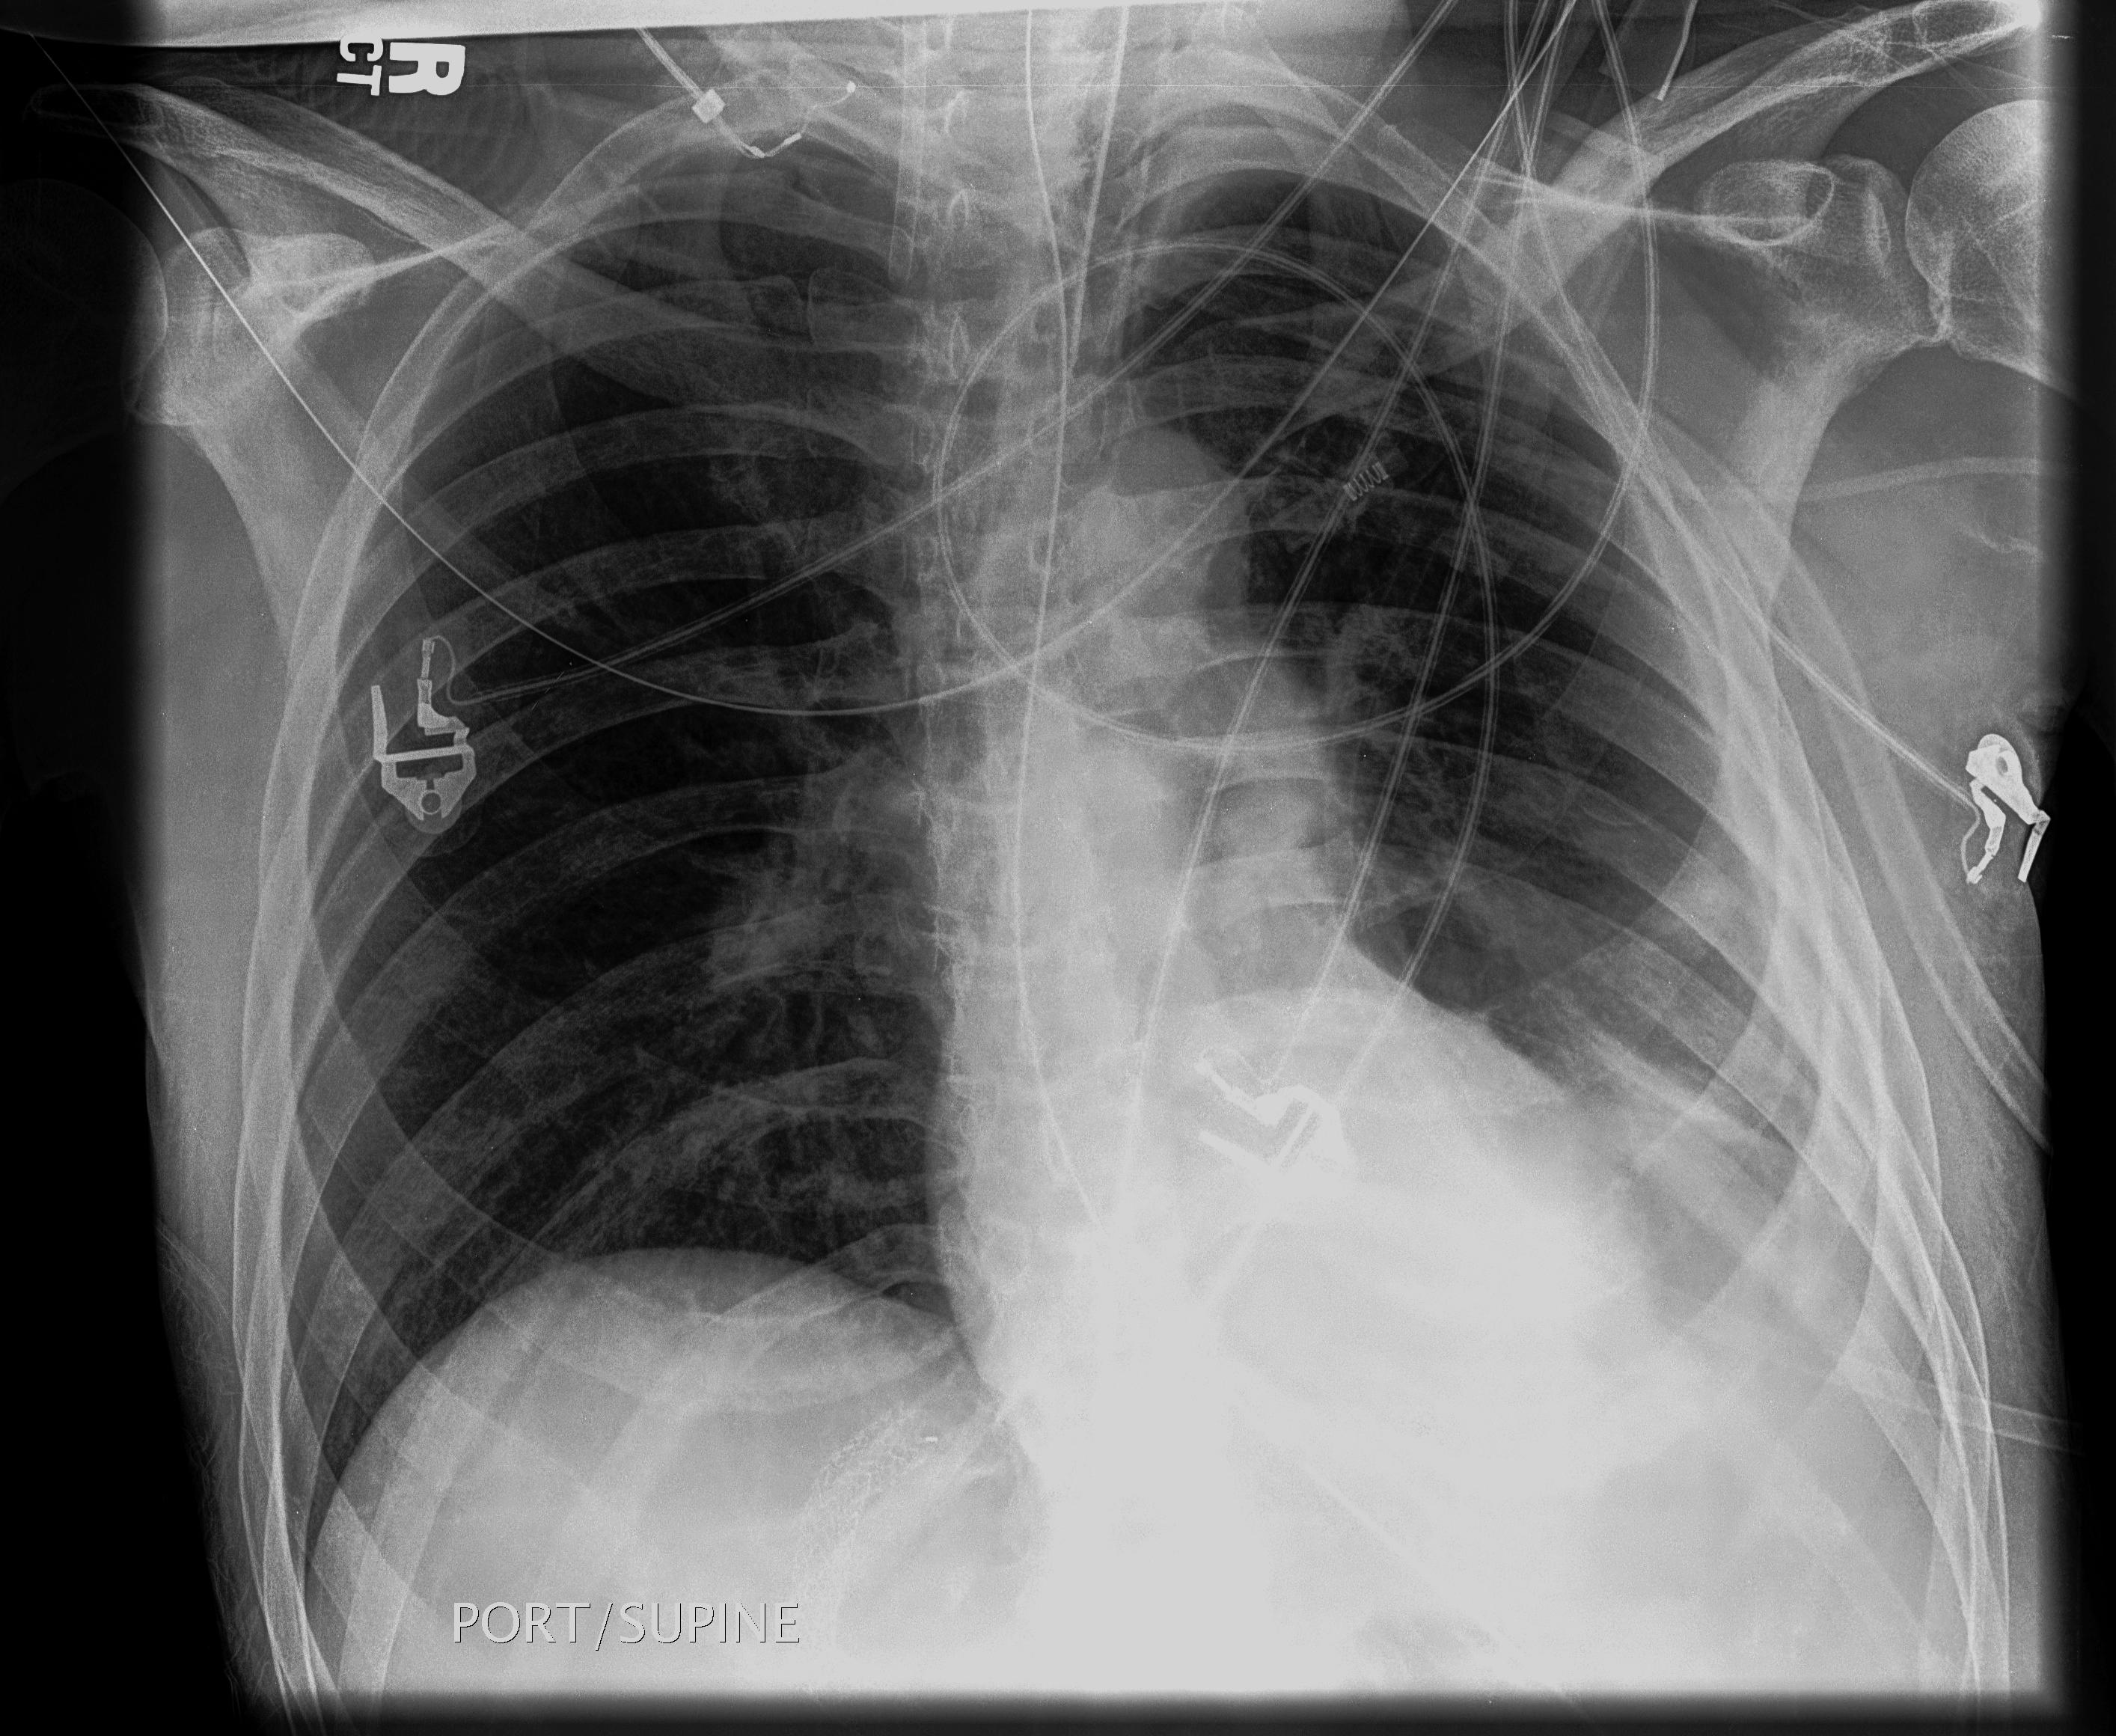Pleural Effusion: (1580, 835, 1954, 1471)
